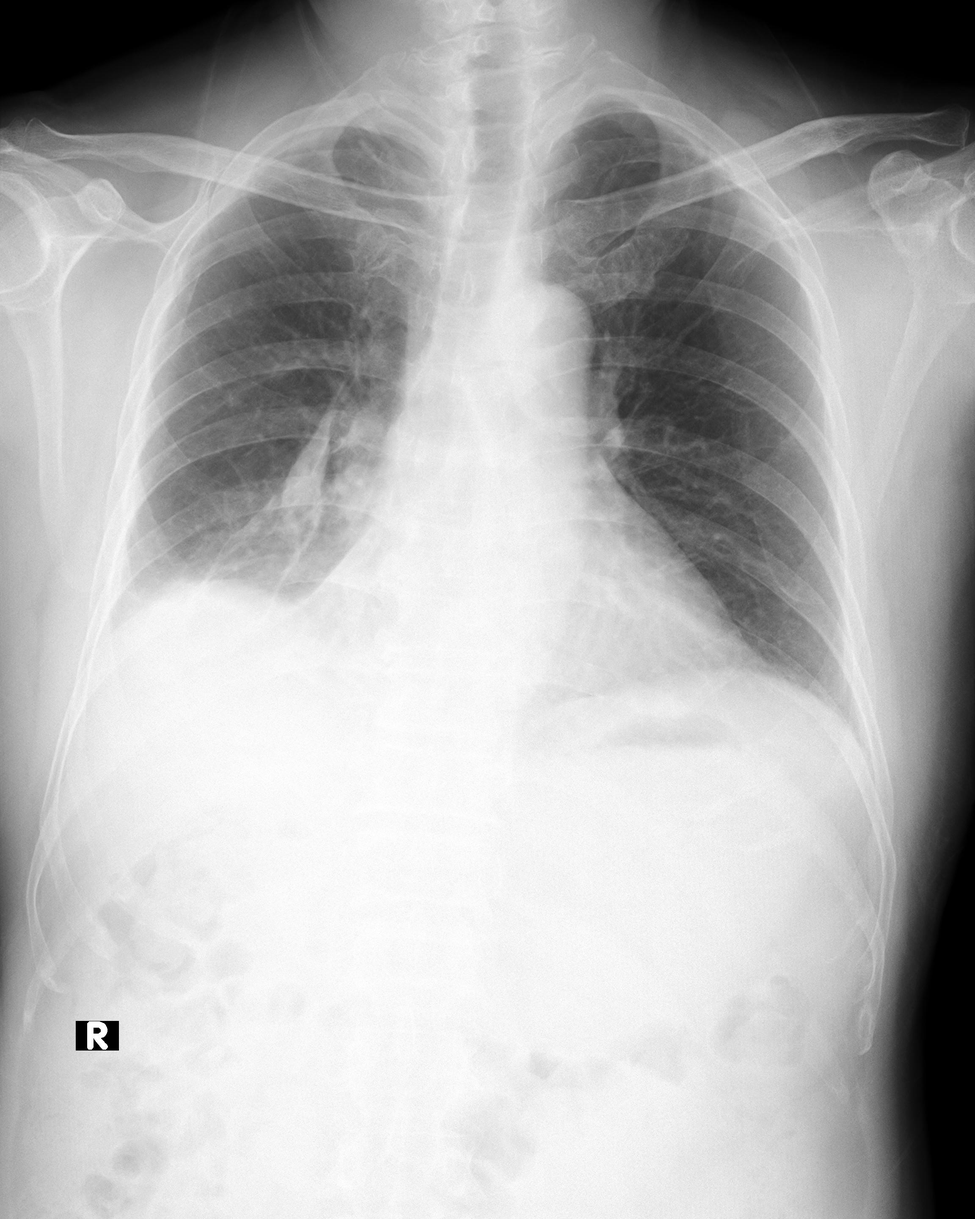Aortic enlargement: (490, 286, 595, 380)
Pleural thickening: (96, 507, 256, 738), (633, 101, 738, 180), (245, 117, 340, 164)
Pulmonary fibrosis: (193, 369, 341, 601)
